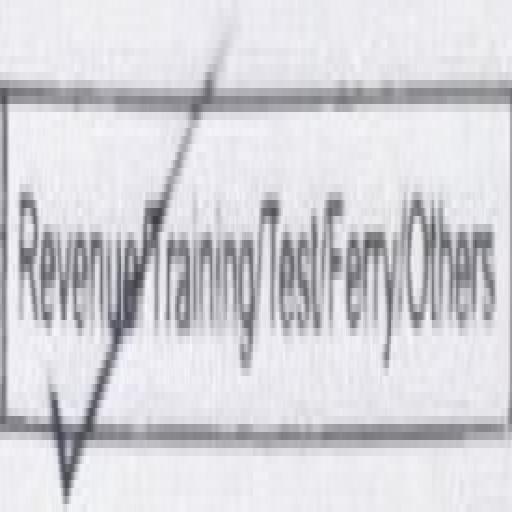check: (17, 86, 137, 512)
